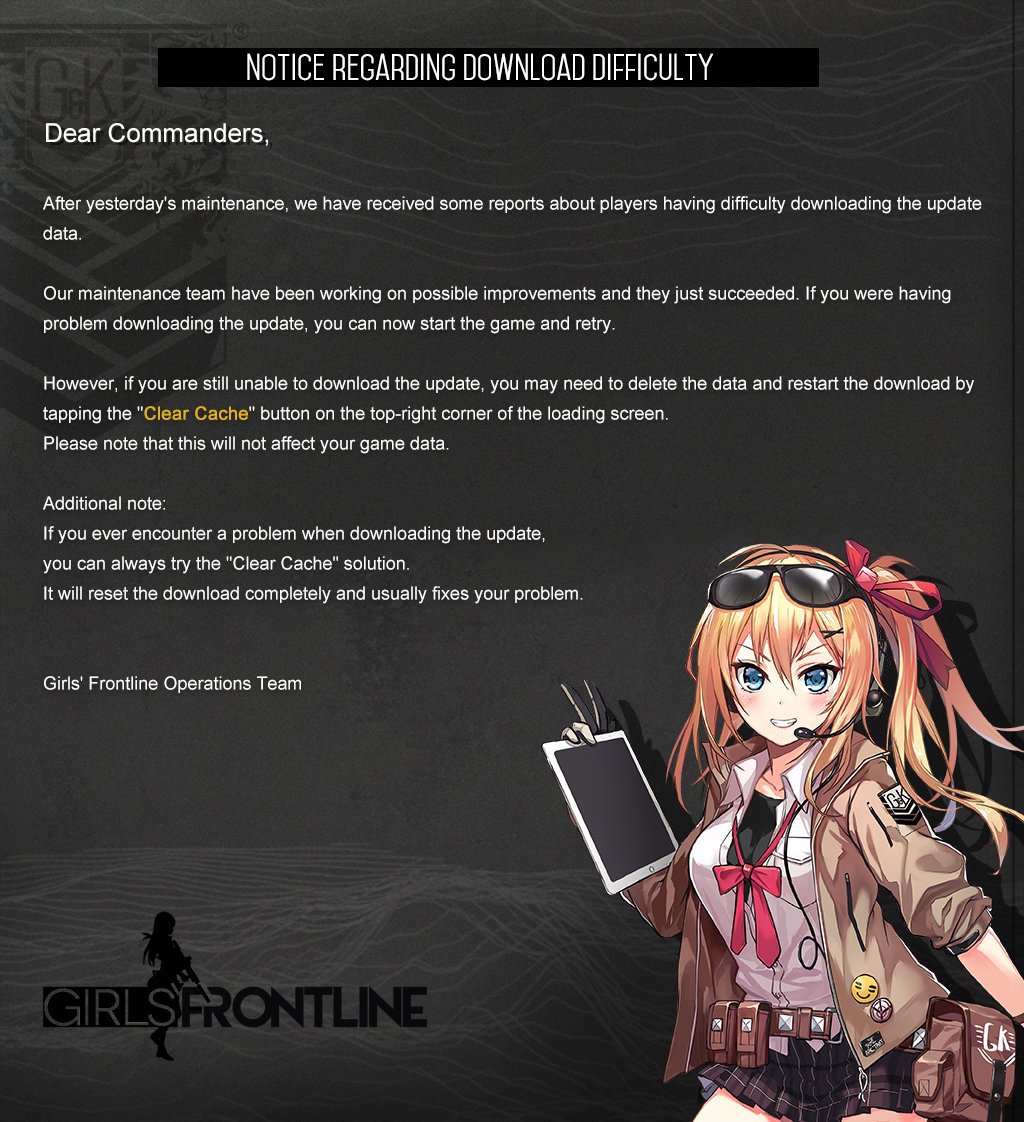latin: (41, 371, 978, 467), (38, 494, 587, 605), (40, 280, 957, 334), (39, 196, 986, 245), (244, 46, 717, 89), (40, 668, 304, 696), (41, 119, 271, 151)
